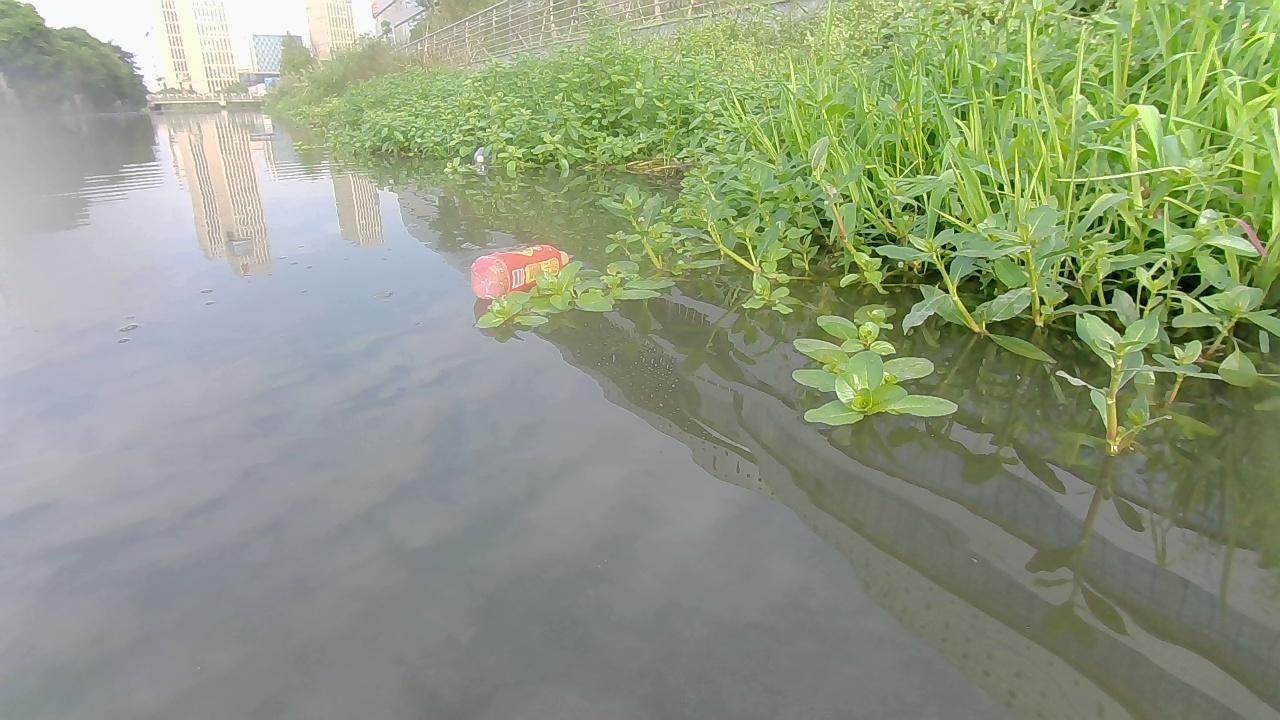bottle: (466, 241, 575, 297), (471, 144, 489, 166)
